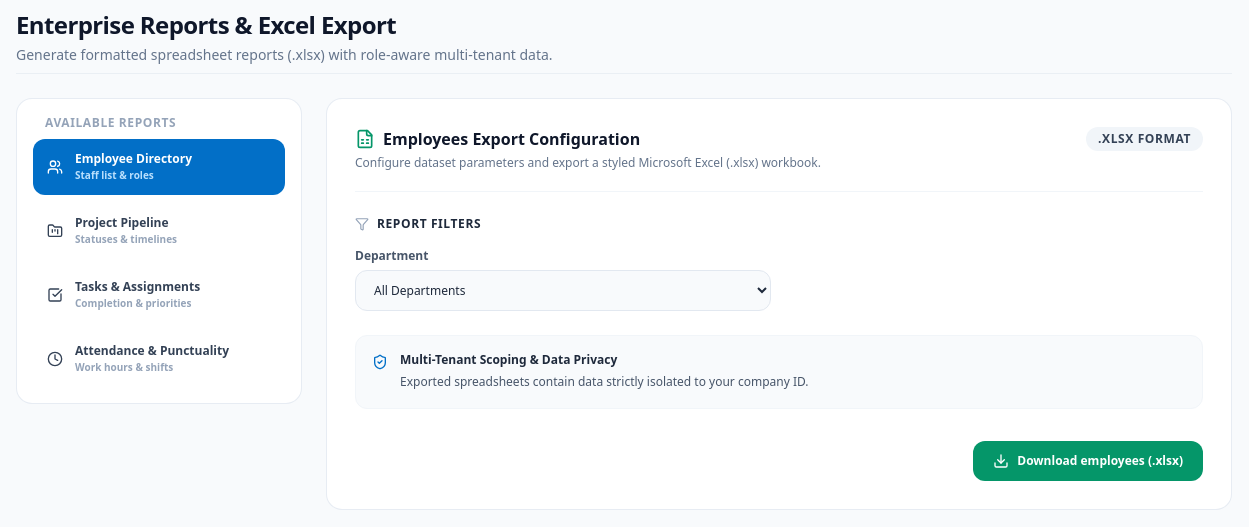
ReportsPage › switches tabs to tasks report
The width and height of the screenshot is (1249, 527).
Click the text "Tasks & Assignments" at (138, 287), box left=75, top=279, right=200, bottom=295
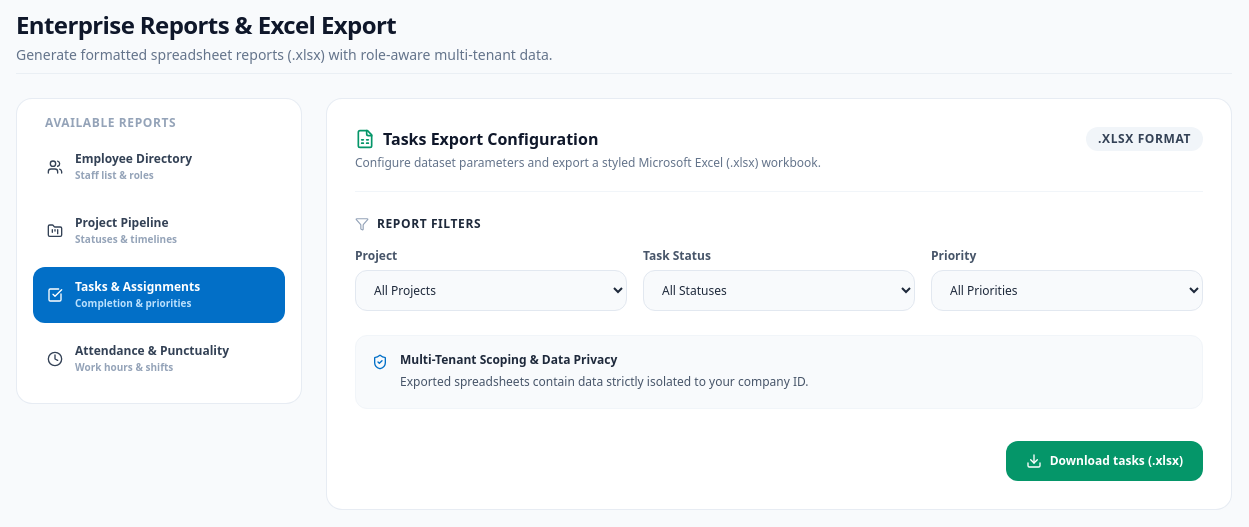
Now the heading "tasks Export Configuration" is shown, box left=383, top=127, right=598, bottom=151
Now the button "Download tasks (.xlsx)" is shown, box left=1006, top=440, right=1203, bottom=480
